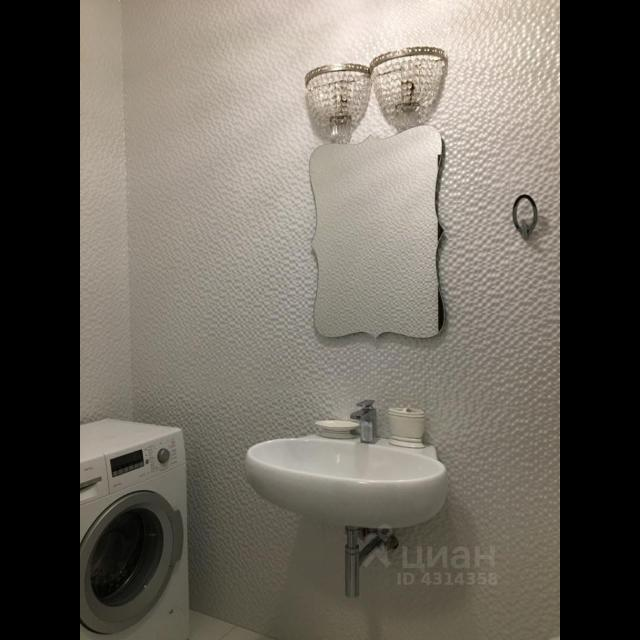Washing-Machine: (80, 416, 190, 638)
